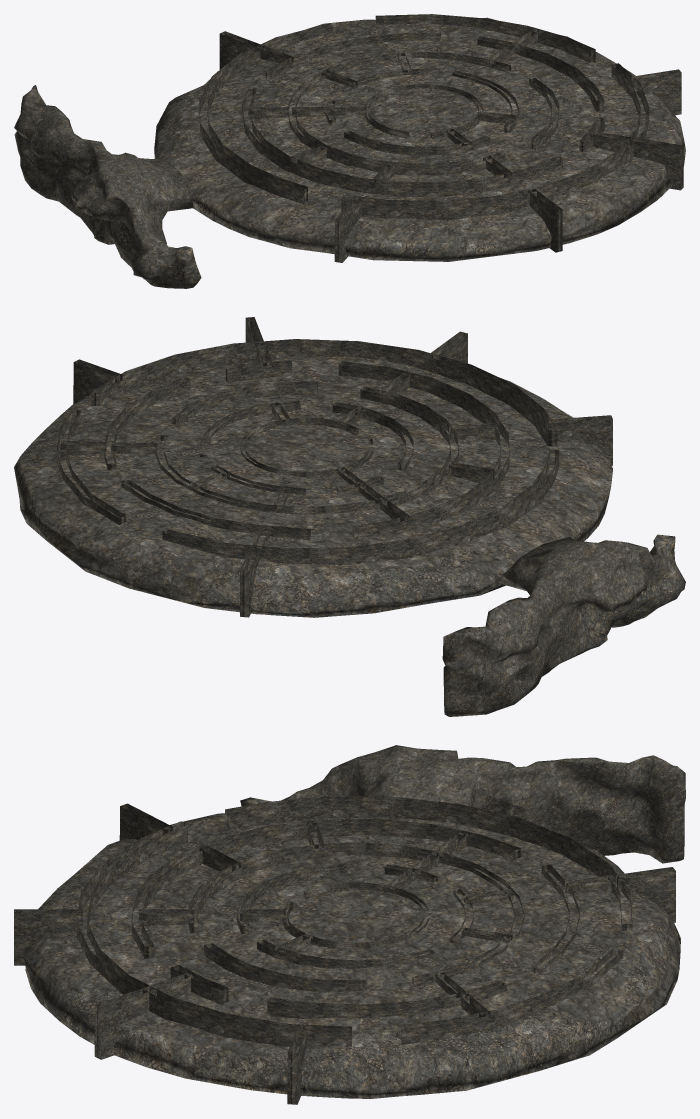
Rendered from Cave39.fbx.
3 views of the same model, one above another, from view 1: azimuth 30°, elevation 25°; view 2: azimuth 150°, elevation 25°; view 3: azimuth 270°, elevation 25° (orthographic). The views are drawn at different scales.
Visible parts, largest first — view 1: cave39, Wall00 (×5), Wall03 (×2), Wall02 (×2), Wall01 (×2), Wall04, Wall05; view 2: cave39, Wall00 (×5), Wall04 (×2), Wall01, Wall02 (×2), Wall05, Wall03; view 3: cave39, Wall00 (×5), Wall03 (×2), Wall02 (×2), Wall05 (×2), Wall01 (×2), Wall04 (×2).
Part boxes in pixels (x1=…): cave39: x1=14, y1=17, x2=685, y2=288; Wall00 (×5): x1=199, y1=14, x2=649, y2=220; Wall03 (×2): x1=290, y1=137, x2=683, y2=190; Wall02 (×2): x1=248, y1=107, x2=562, y2=252; Wall01 (×2): x1=334, y1=131, x2=631, y2=262; Wall04: x1=631, y1=69, x2=681, y2=115; Wall05: x1=219, y1=31, x2=261, y2=69; cave39: x1=14, y1=356, x2=685, y2=716; Wall00 (×5): x1=56, y1=339, x2=559, y2=564; Wall04 (×2): x1=73, y1=359, x2=498, y2=440; Wall01: x1=547, y1=415, x2=612, y2=465; Wall02 (×2): x1=60, y1=331, x2=467, y2=457; Wall05: x1=240, y1=547, x2=259, y2=617; Wall03: x1=448, y1=462, x2=494, y2=482; cave39: x1=23, y1=745, x2=685, y2=1098; Wall00 (×5): x1=76, y1=796, x2=632, y2=1046; Wall03 (×2): x1=94, y1=875, x2=615, y2=1059; Wall02 (×2): x1=14, y1=909, x2=286, y2=965; Wall05 (×2): x1=138, y1=867, x2=675, y2=926; Wall01 (×2): x1=119, y1=803, x2=193, y2=998; Wall04 (×2): x1=200, y1=845, x2=307, y2=1104.
Bounding box in the file's own units: 3773 × 583 × 3223.
